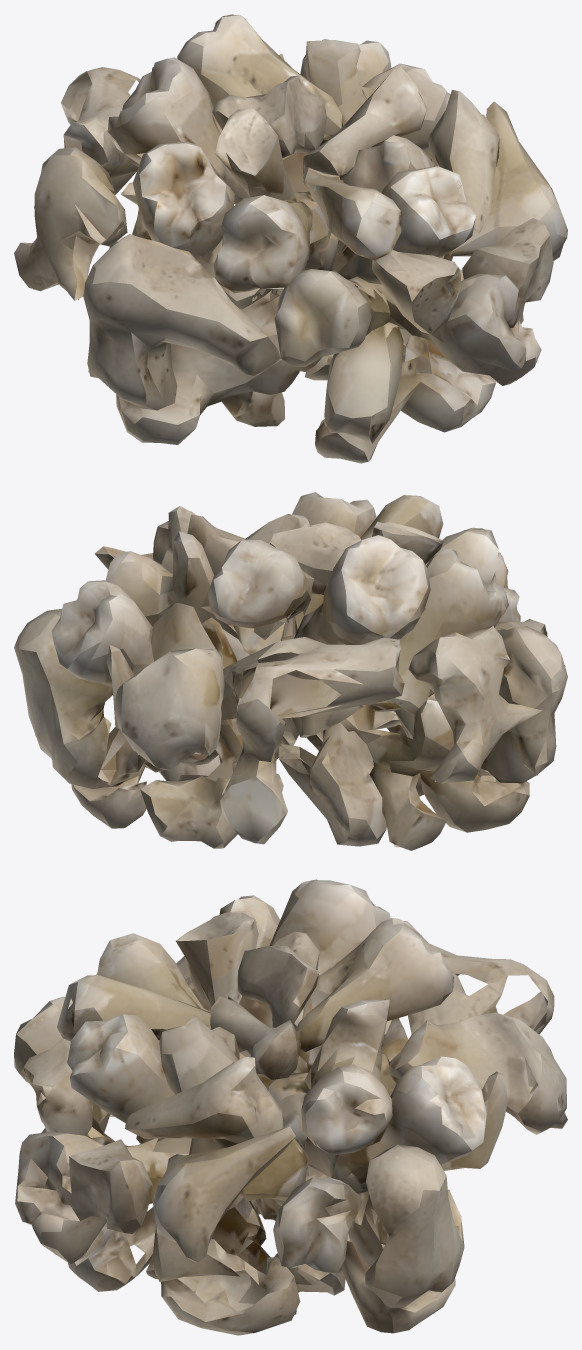
The model's file is anomaly_teethfloor.glb.
3 renders of one model, top to bottom at view 1: azimuth 30°, elevation 25°; view 2: azimuth 150°, elevation 25°; view 3: azimuth 270°, elevation 25°, orthographic. The views are drawn at different scales.
Visible parts, largest first — view 1: geometry_0; view 2: geometry_0; view 3: geometry_0.
Part boxes in pixels (box(x1,y1,x2,y2)): geometry_0: box(14, 14, 567, 463); geometry_0: box(14, 492, 567, 850); geometry_0: box(14, 879, 567, 1335).
Bounding box in the file's own units: 0.18 × 0.1162 × 0.1801.
Materials: 1 (1 with a texture image).
